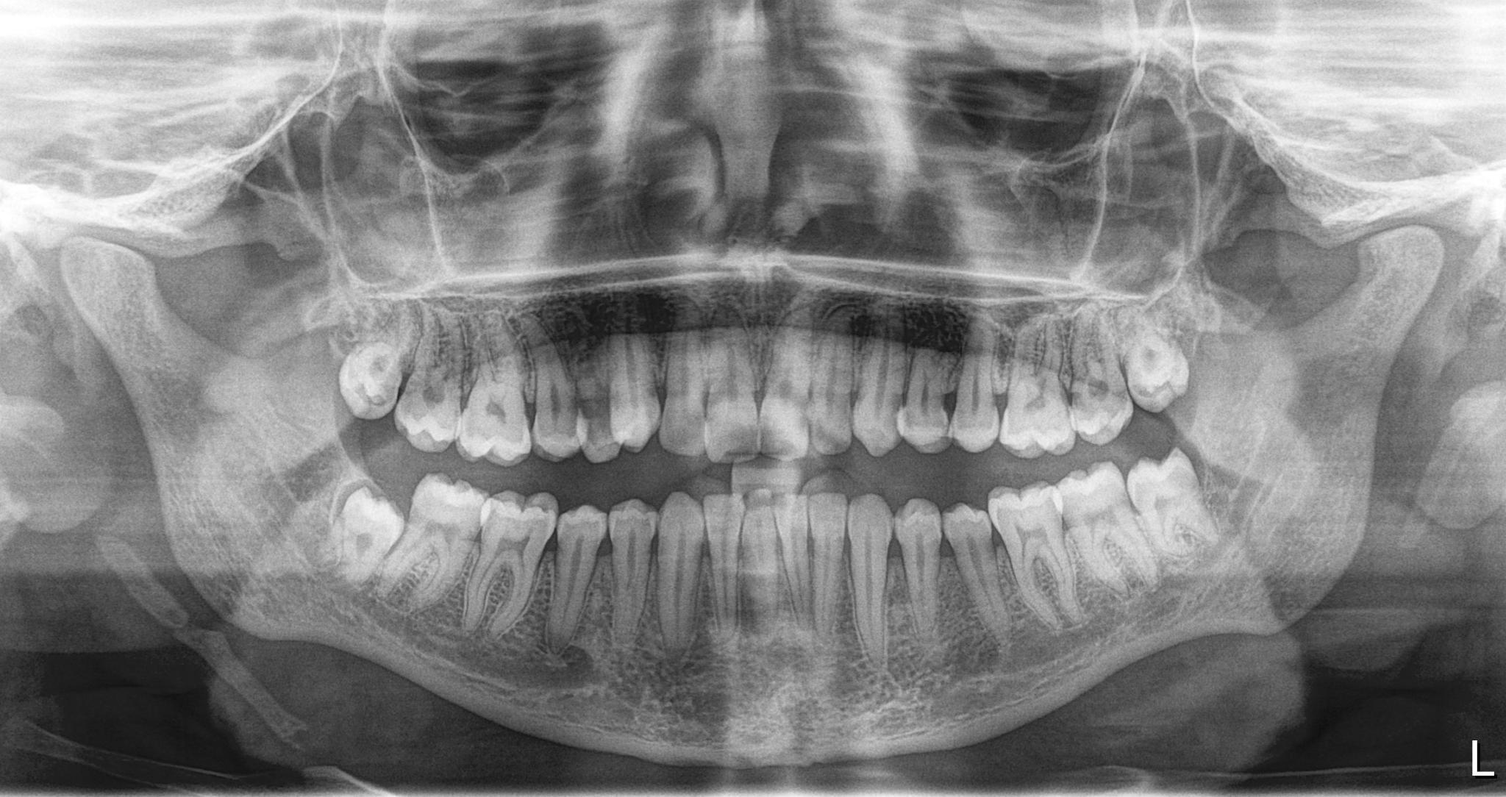Dental Caries: (575, 360, 614, 456)
Impacted Third Molar: (1131, 450, 1236, 550), (322, 482, 405, 570)
